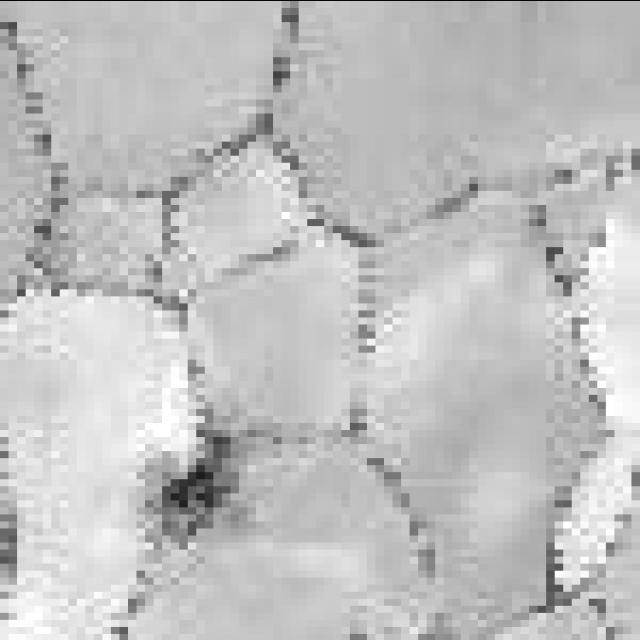good_void: (139, 429, 257, 541)
